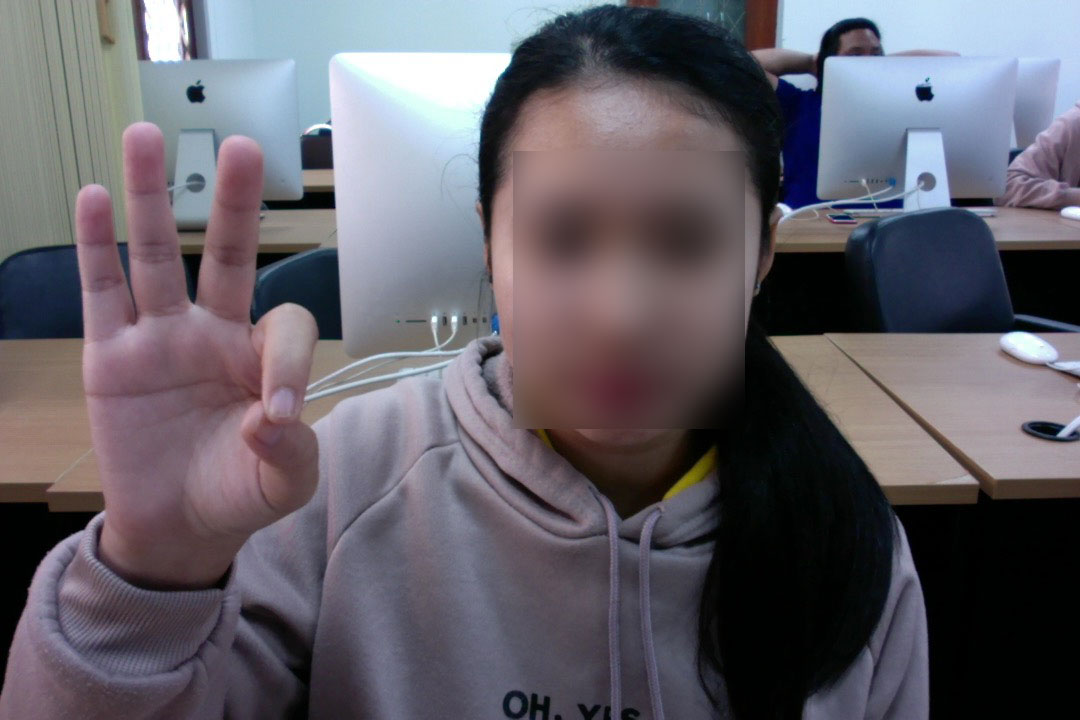for: (44, 96, 340, 603)
